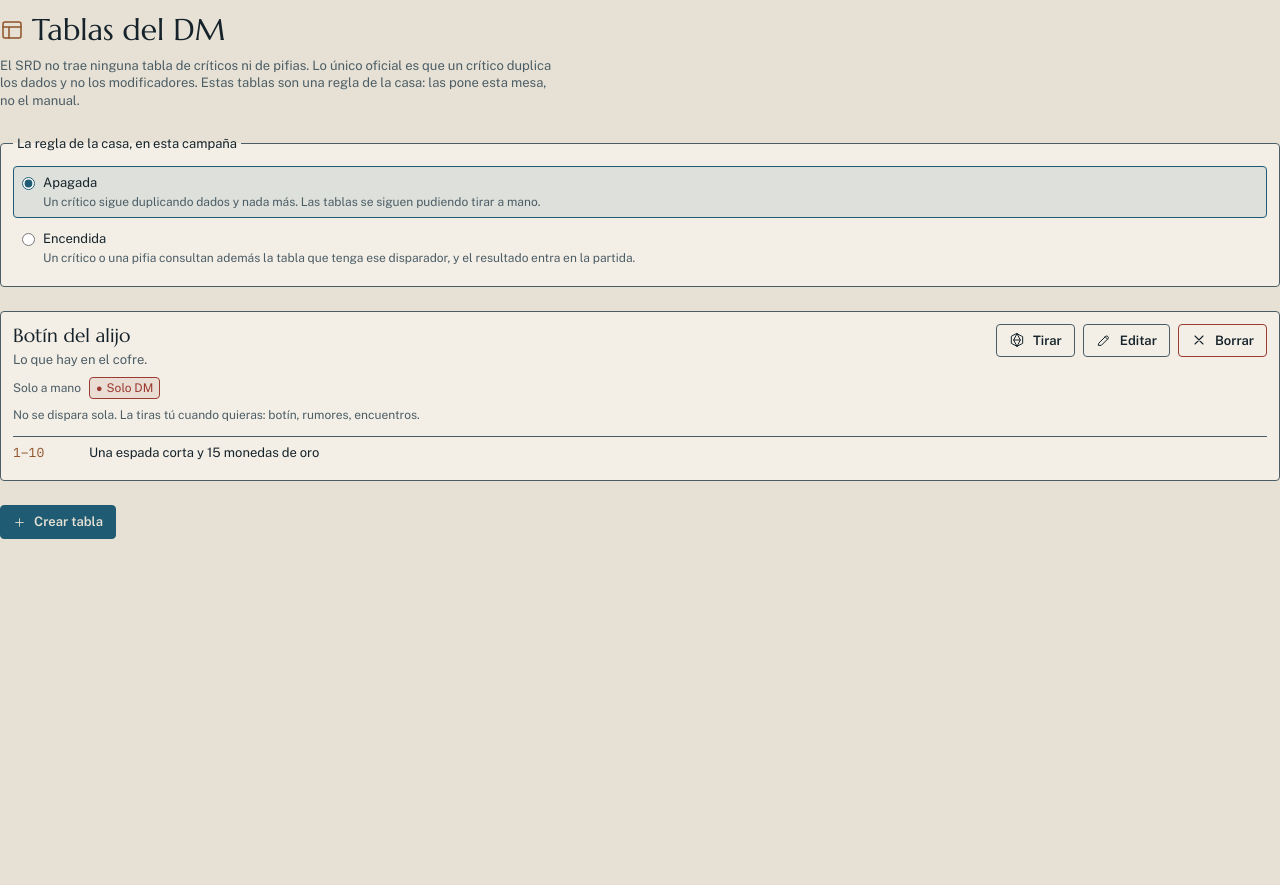
Test: PanelDeTablas — redactar la entrega de una fila (ficha P2-2) › el botón de una fila SIN entrega lo dice, y el de una fila CON entrega también
This screenshot has width=1280, height=885.
What coordinates should you click on to do the following:
click the button "Editar"
I would click on:
 (1126, 340)
Its box is [1083,324,1170,357].
(page scrolled)
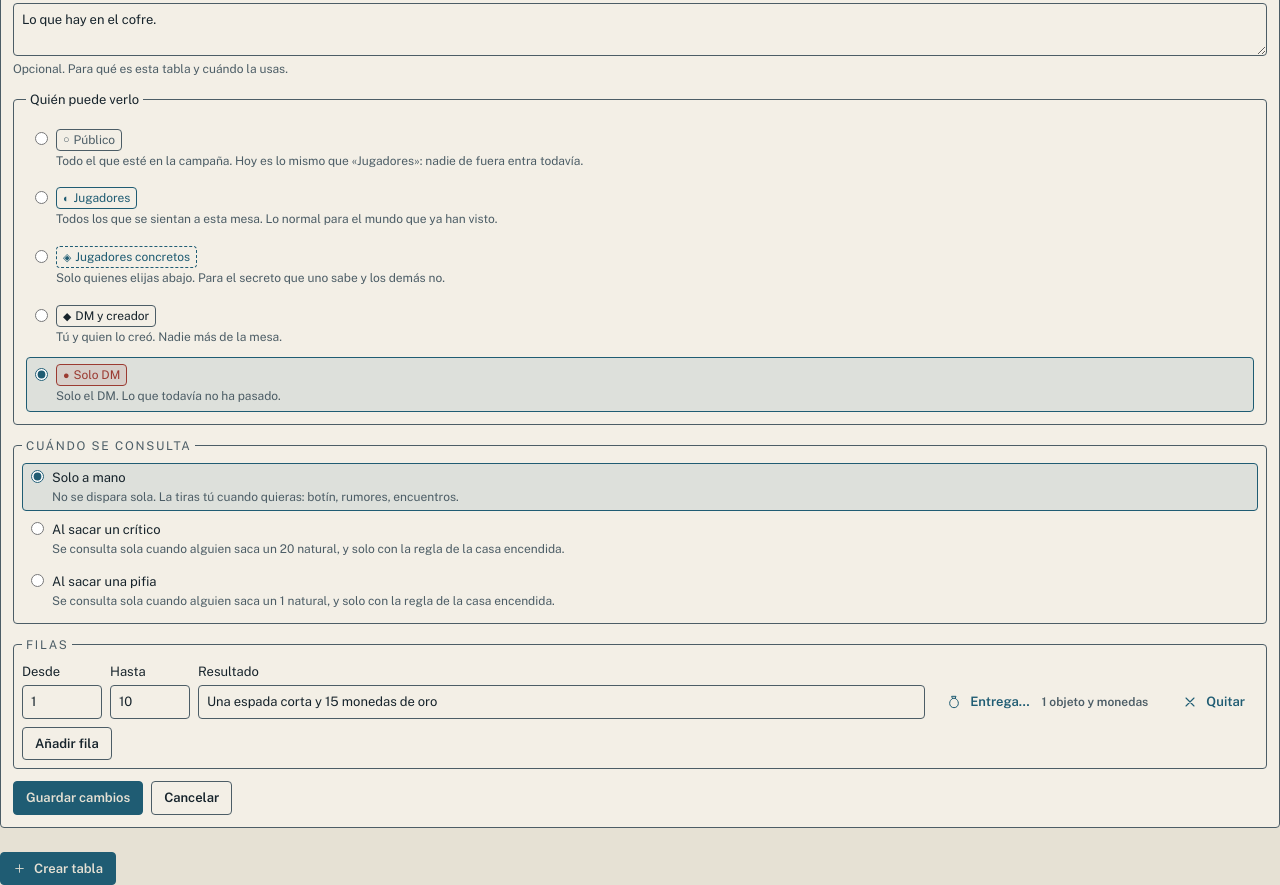
Result: the button with aria-label "Entrega de la fila 1: 1 objeto y monedas" is shown at [933,685,1161,719]
Y una fila nueva no entrega nada, que es el caso de una tabla de rumores.
What coordinates should you click on to do the following:
click the button "Añadir fila"
I would click on:
 (67, 743)
Its box is [22,727,112,760].
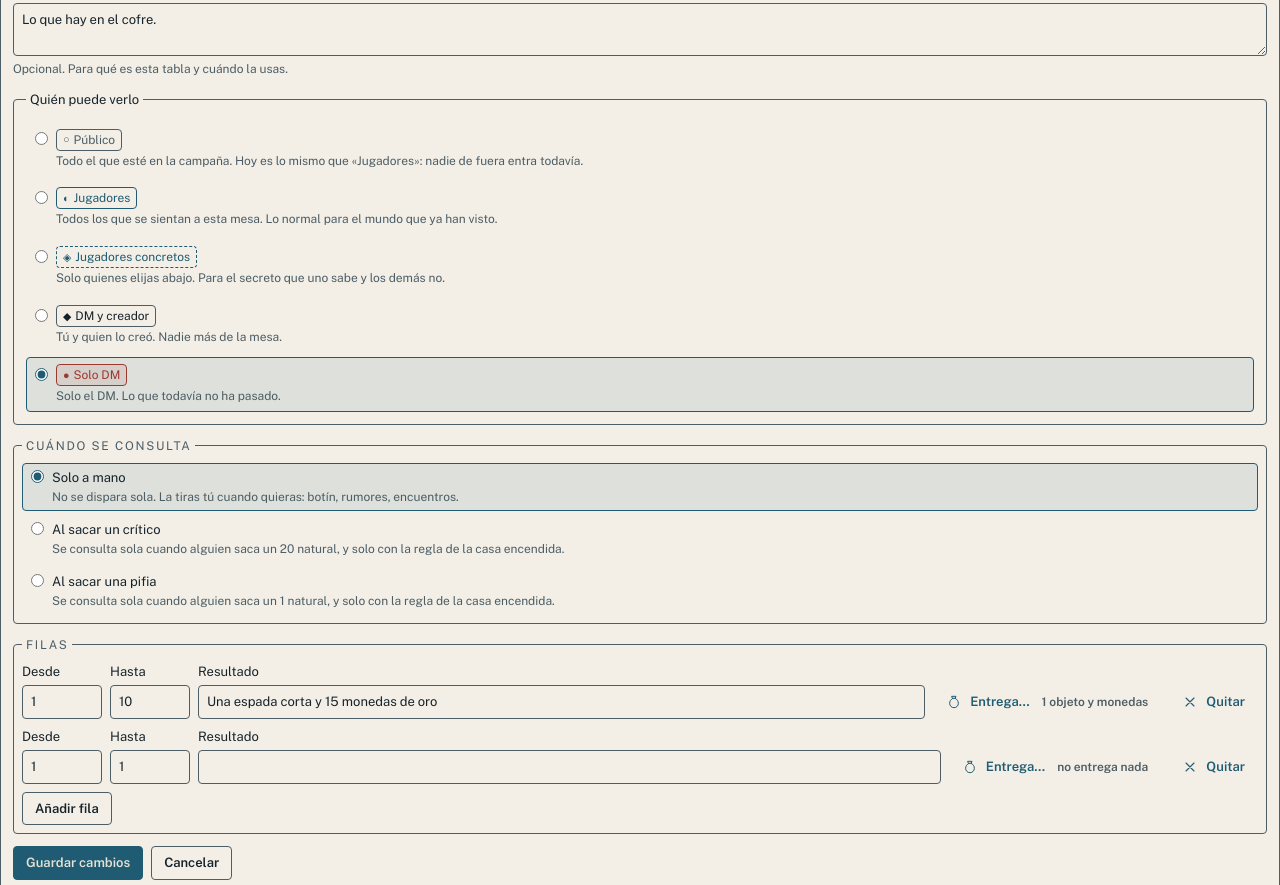
Result: the button with aria-label "Entrega de la fila 2: no entrega nada" is shown at [949,750,1161,784]
